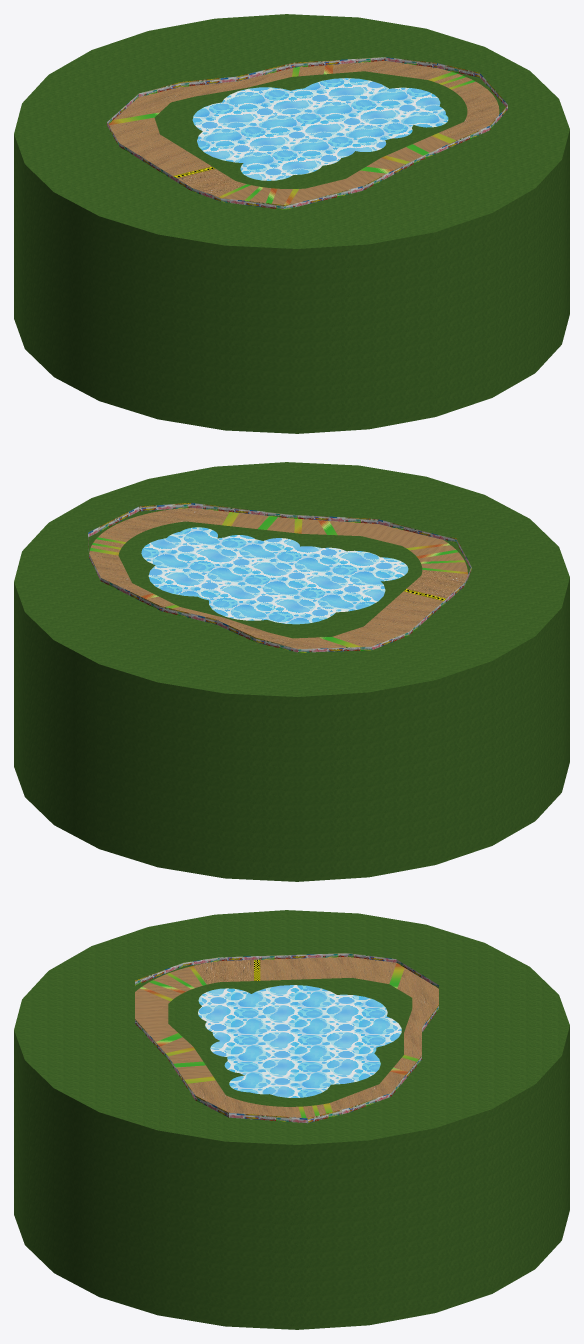
The picture shows the model from 3 angles, top to bottom: view 1: azimuth 30°, elevation 25°; view 2: azimuth 150°, elevation 25°; view 3: azimuth 270°, elevation 25°; orthographic projection.
Parts seen in each view (by area): view 1: Nack-SKP--Chris_Hair, Nack-SKP--Chris_Skin, Nack-SKP--Chris_Pants, Nack-SKP--Chris_Shoe_Sole, Nack-SKP--Chris_Shoe; view 2: Nack-SKP--Chris_Hair, Nack-SKP--Chris_Skin, Nack-SKP--Chris_Pants, Nack-SKP--Chris_Shoe_Sole, Nack-SKP--Chris_Shoe; view 3: Nack-SKP--Chris_Hair, Nack-SKP--Chris_Skin, Nack-SKP--Chris_Pants, Nack-SKP--Chris_Shoe_Sole, Nack-SKP--Chris_Shoe.
Boxes of the visible parts, left/top/right/bottom form: Nack-SKP--Chris_Hair: left=14, top=14, right=569, bottom=433; Nack-SKP--Chris_Skin: left=192, top=78, right=448, bottom=180; Nack-SKP--Chris_Pants: left=109, top=60, right=499, bottom=204; Nack-SKP--Chris_Shoe_Sole: left=107, top=57, right=507, bottom=209; Nack-SKP--Chris_Shoe: left=108, top=64, right=474, bottom=204; Nack-SKP--Chris_Hair: left=14, top=462, right=569, bottom=881; Nack-SKP--Chris_Skin: left=141, top=527, right=408, bottom=624; Nack-SKP--Chris_Pants: left=89, top=507, right=467, bottom=649; Nack-SKP--Chris_Shoe_Sole: left=88, top=503, right=471, bottom=652; Nack-SKP--Chris_Shoe: left=90, top=512, right=467, bottom=647; Nack-SKP--Chris_Hair: left=14, top=910, right=569, bottom=1329; Nack-SKP--Chris_Skin: left=198, top=985, right=401, bottom=1097; Nack-SKP--Chris_Pants: left=135, top=956, right=438, bottom=1118; Nack-SKP--Chris_Shoe_Sole: left=135, top=953, right=438, bottom=1123; Nack-SKP--Chris_Shoe: left=140, top=963, right=418, bottom=1118.
Size of the model in its own units: 139366 by 52484 by 139366.
7 materials, 7 textured.
